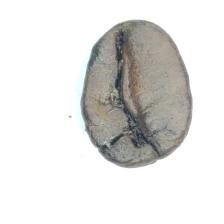NG: (88, 28, 161, 155)
